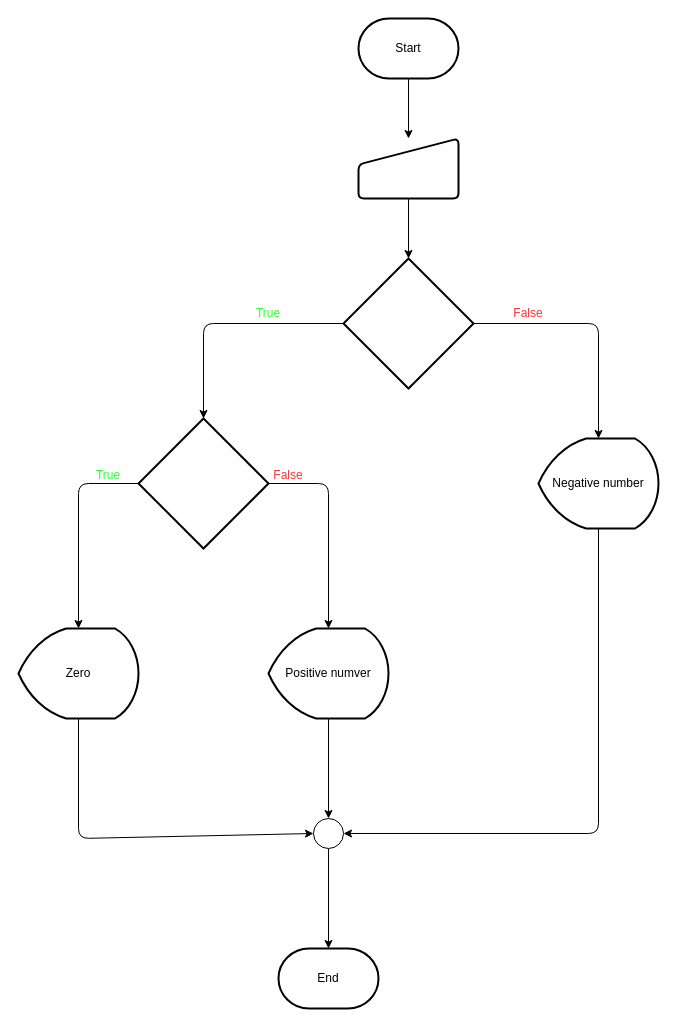
Some shapes in this 676 by 1026 pixel diagram are drawn without their labels. The centre of each missing label's shape, as x and y in pixels:
num: the point at 408,168
num == 0: the point at 203,483
num >= 0: the point at 408,323
